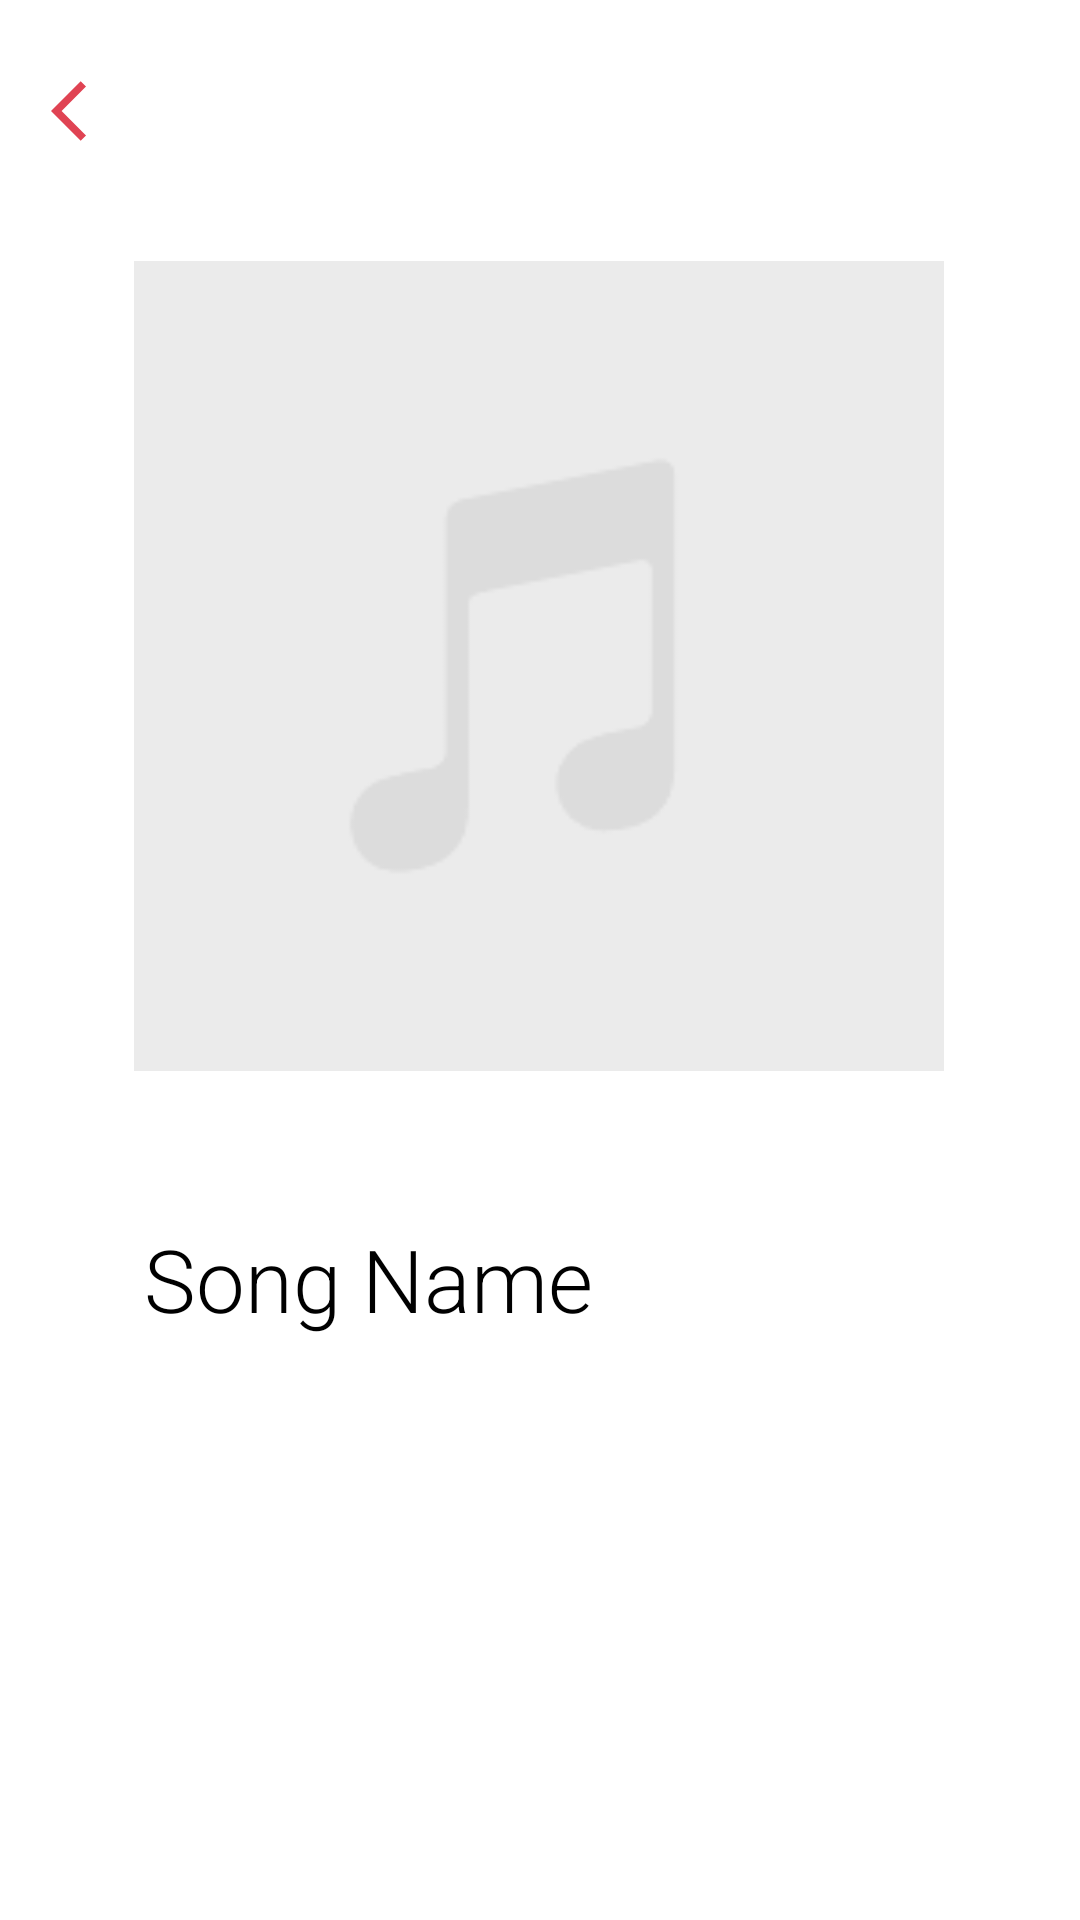

Point at icon controls on the screen. Image size 1080x1920, points as (x,y).
arrow back: (68,111)
